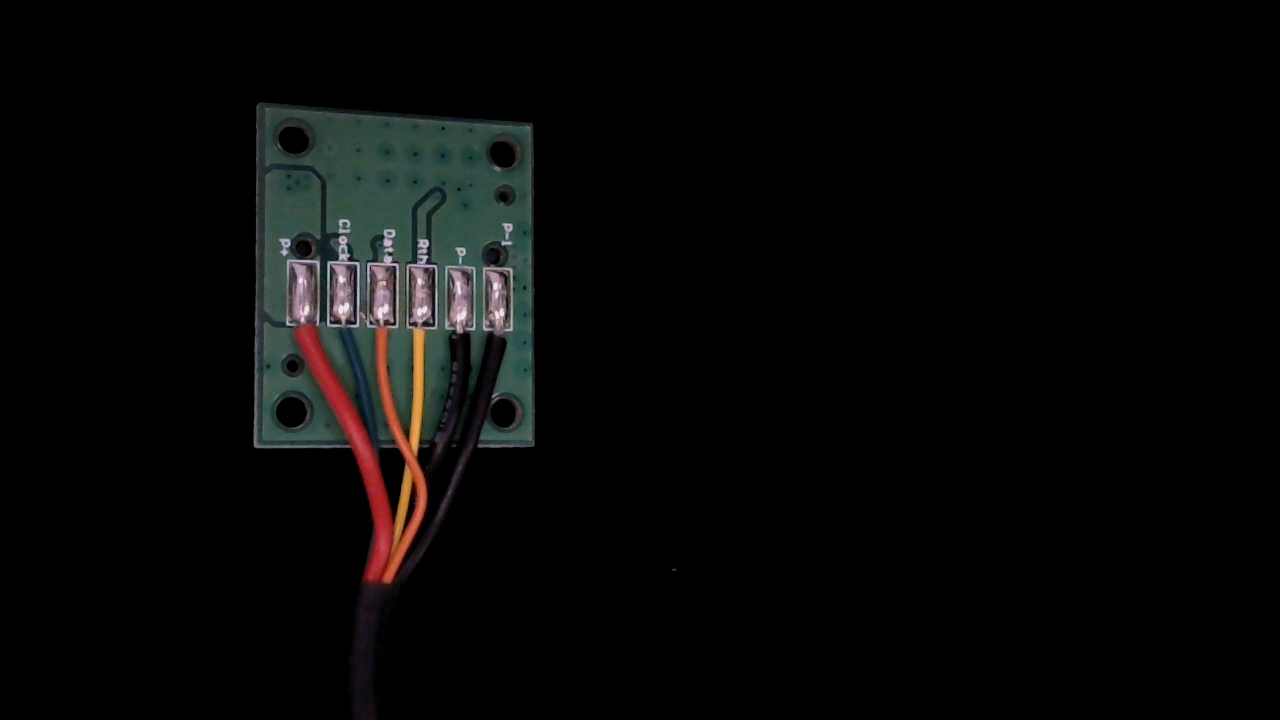Black: (442, 308, 477, 381)
Black1: (485, 312, 518, 379)
Green: (328, 302, 360, 362)
Orange: (368, 304, 400, 376)
Red: (285, 306, 316, 367)
Yellow: (405, 306, 439, 380)
